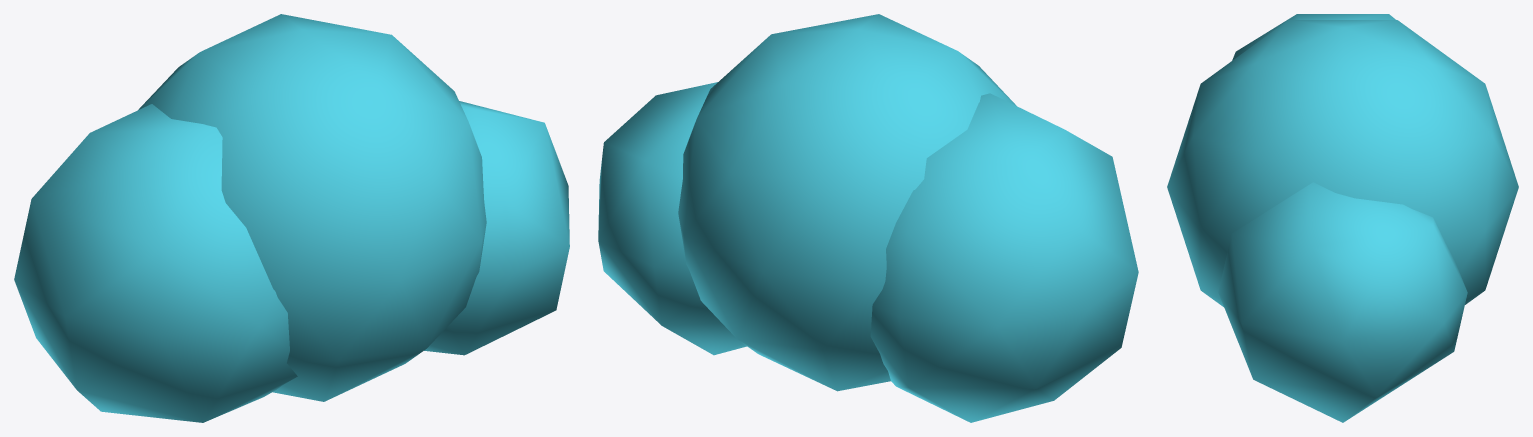
Rendered from cloud.001.glb.
3 views of the same model, side by side, from view 1: azimuth 30°, elevation 25°; view 2: azimuth 150°, elevation 25°; view 3: azimuth 270°, elevation 25° (orthographic). The views are drawn at different scales.
Parts seen in each view (by area): view 1: cloud.001; view 2: cloud.001; view 3: cloud.001.
Part boxes in pixels (x1,y1,x2,y2): cloud.001: [14, 14, 569, 422]; cloud.001: [598, 14, 1138, 422]; cloud.001: [1167, 14, 1518, 422].
Bounding box in the file's own units: 9.33 × 6 × 6.
